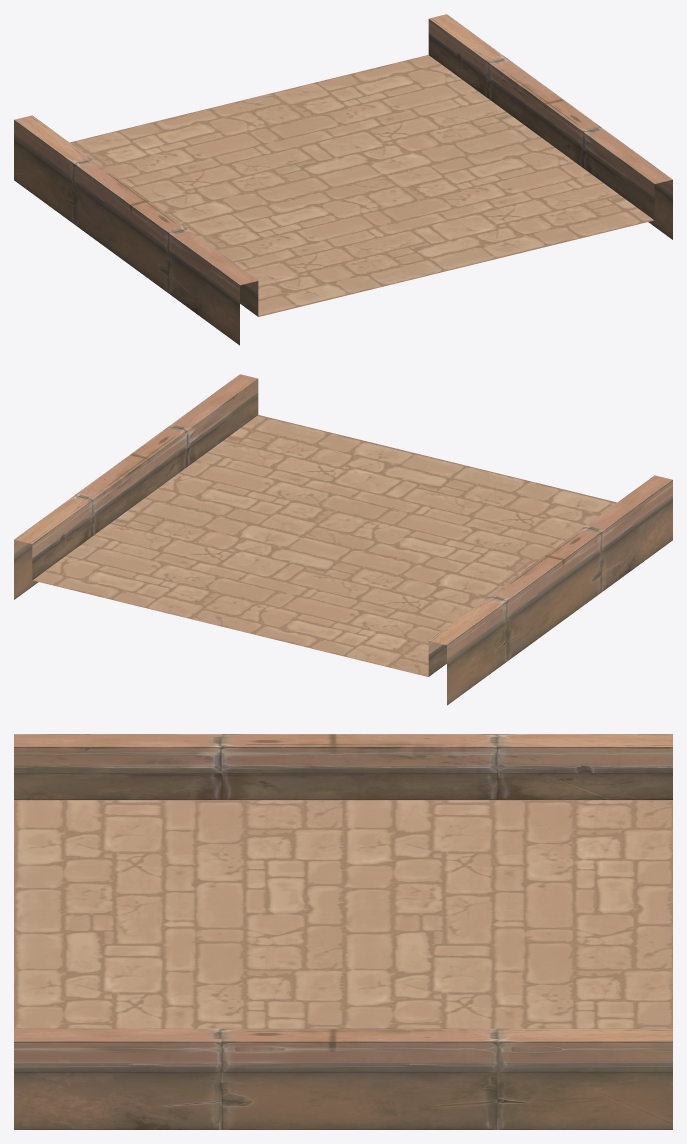
File: Road_Block.fbx
3 views of the same model, one above another, from view 1: azimuth 30°, elevation 25°; view 2: azimuth 150°, elevation 25°; view 3: azimuth 270°, elevation 25° (orthographic). The views are drawn at different scales.
Visible parts, largest first — view 1: Road_Block_Prime; view 2: Road_Block_Prime; view 3: Road_Block_Prime.
Boxes of the visible parts, <box> form: Road_Block_Prime: <box>14,14,672,345</box>; Road_Block_Prime: <box>14,374,672,705</box>; Road_Block_Prime: <box>14,734,672,1129</box>.
Size of the model in its own units: 961 by 128 by 870.
